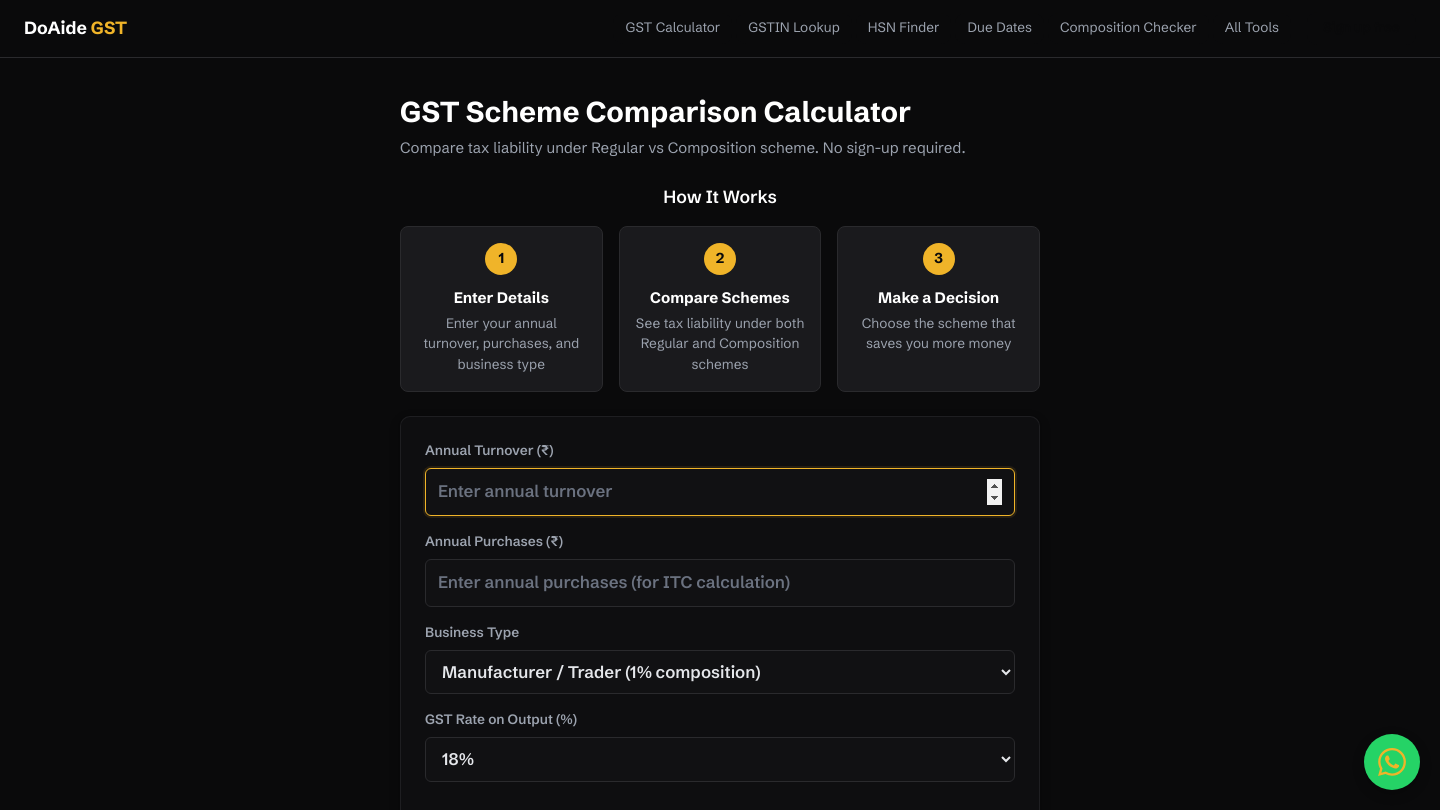
Test: SchemeComparisonPage › shows composition ineligible message for high turnover
Type "20000000" into the number field with placeholder "Enter annual turnover" at (720, 492), box x1=425 y1=468 x2=1015 y2=516
(page scrolled)
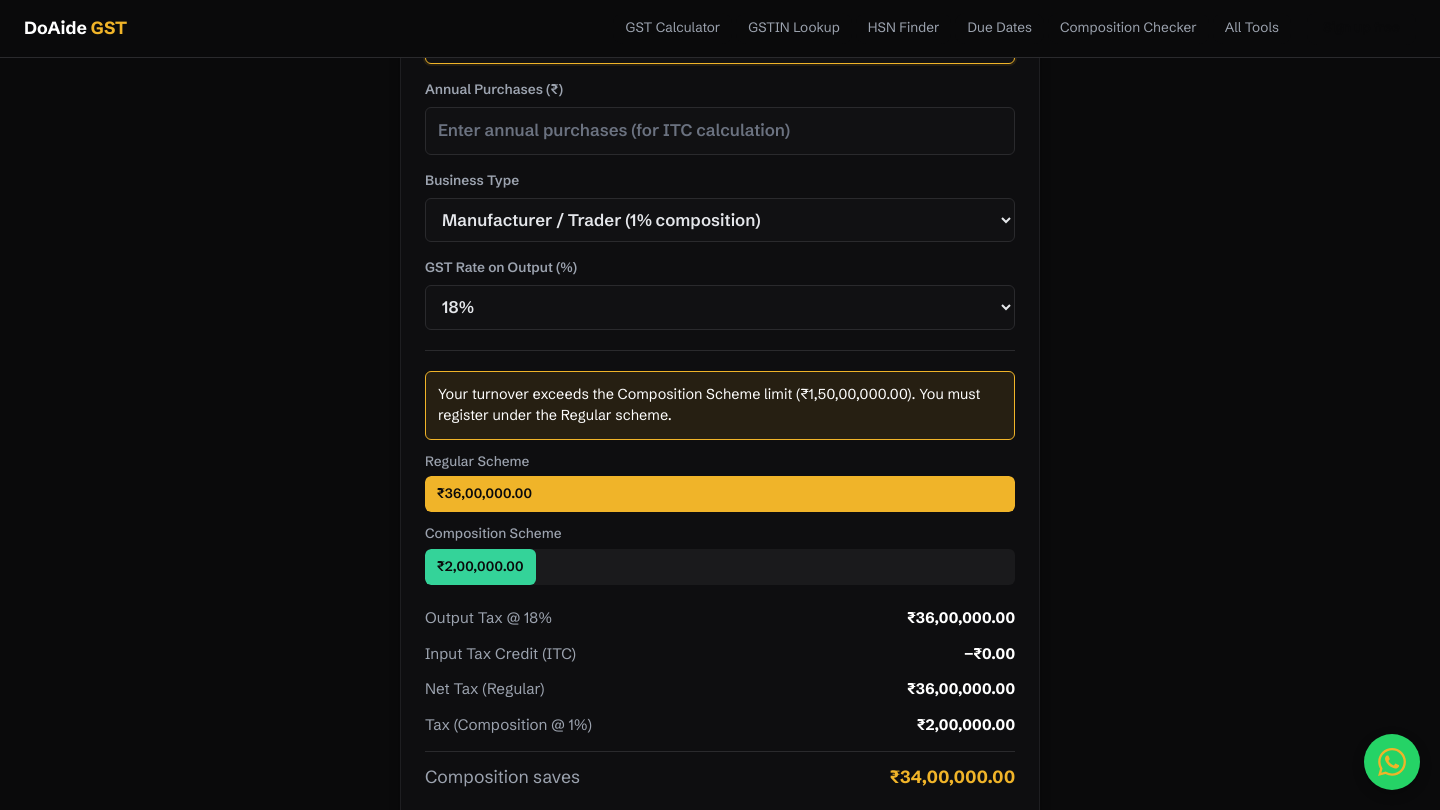
Expected: the text "exceeds the Composition Scheme limit" is shown, x1=438 y1=385 x2=800 y2=403
